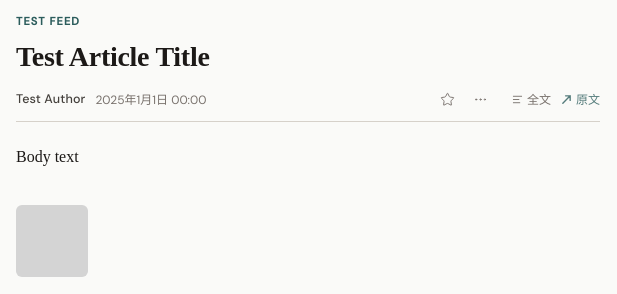
it: text-only toggle › strips images from the rendered body when enabled
Expected: the text "Body text" is shown, [16,148,79,165]
Click the button named "更多操作": (480, 99) [469,88,492,111]
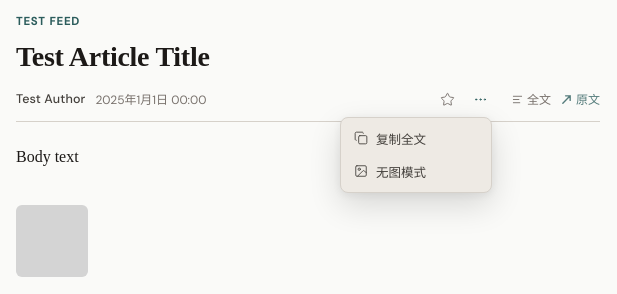
Click the menu item "无图模式": (416, 171) [345,155,487,188]
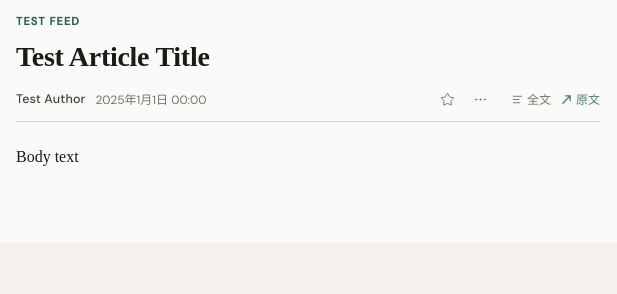
Expected: the text "Body text" is shown, [16,148,79,165]
Now the picture is gone
